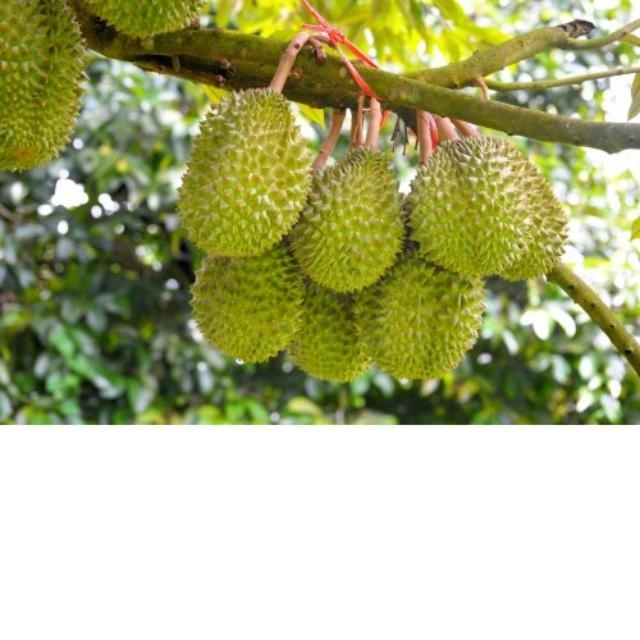sau_rieng: (409, 135, 568, 286), (178, 88, 308, 258), (356, 256, 484, 379), (296, 148, 403, 289), (2, 1, 84, 174), (191, 250, 300, 364), (287, 288, 372, 384)
